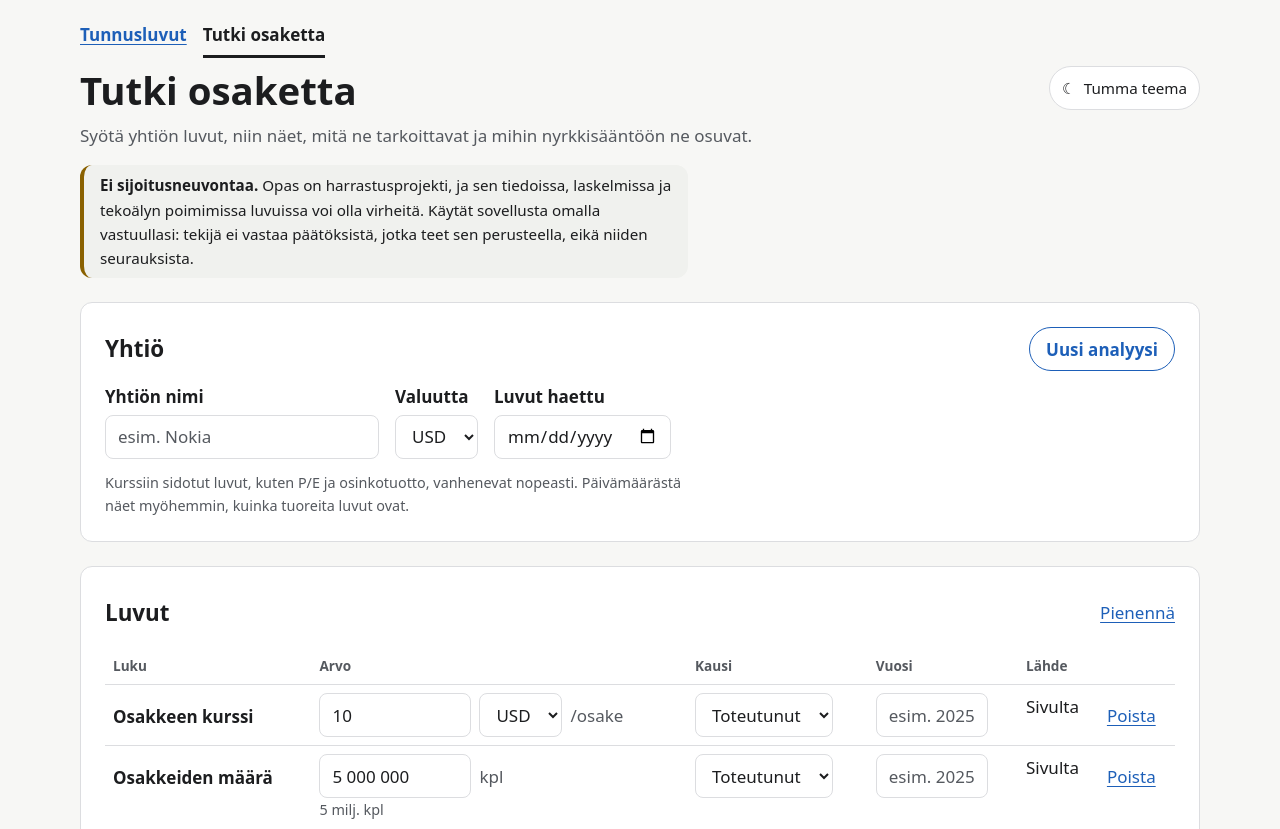
Test: käsin syöttö › rahamäärät näytetään analyysin valuutassa
The width and height of the screenshot is (1280, 829).
Select "EUR" in the dropdown labelled "Valuutta". click: (436, 437)
box: [395,415,478,459]
(page scrolled)
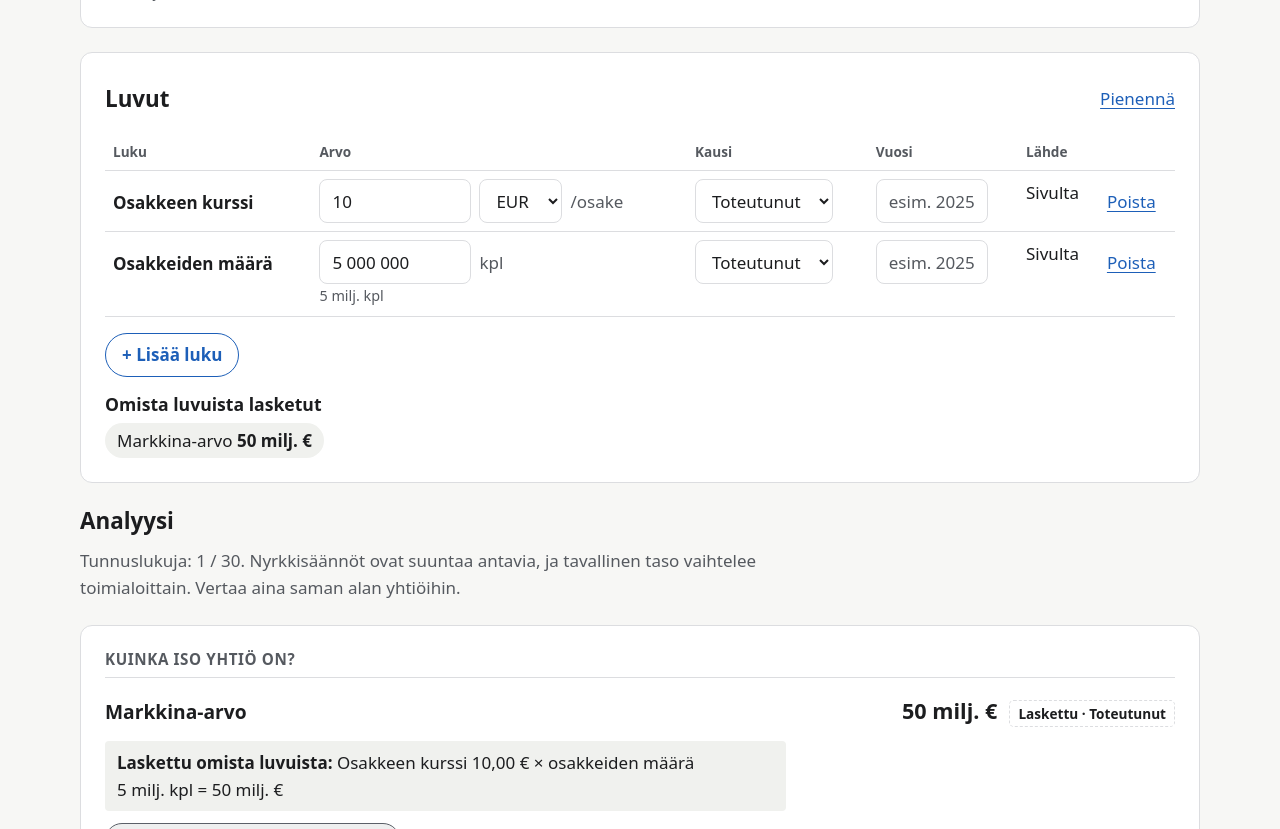
Now the text "50 milj. €" is shown, box [237,428,312,452]
